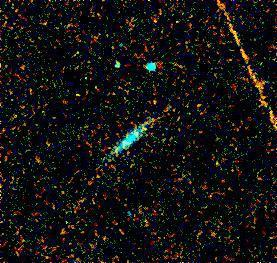star: (135, 86, 165, 116)
